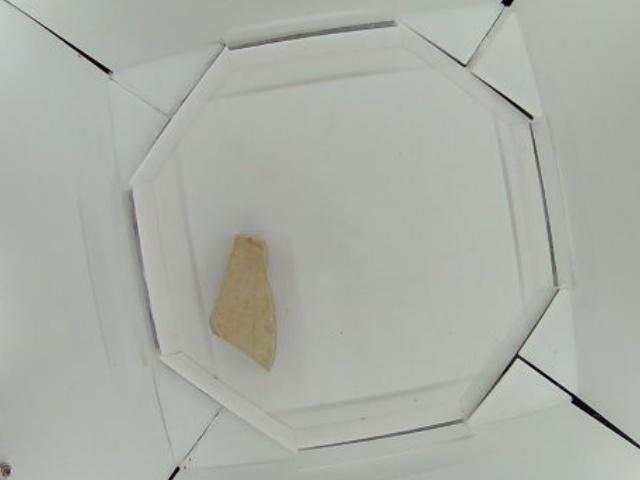China: (207, 235, 278, 369)
